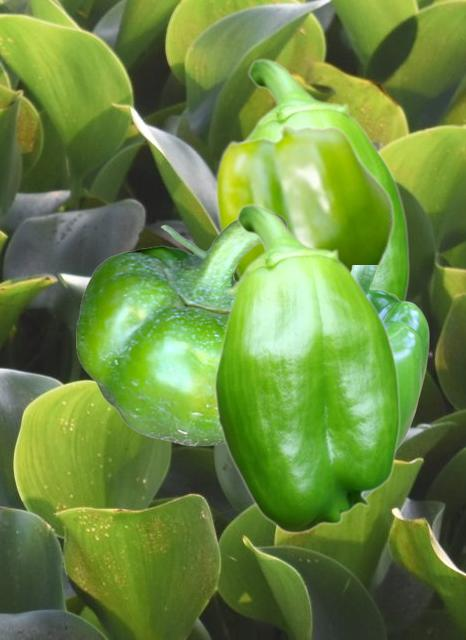bell_pepper: (213, 203, 400, 533), (76, 211, 289, 445), (235, 58, 409, 299), (215, 123, 394, 278), (351, 265, 428, 497)
